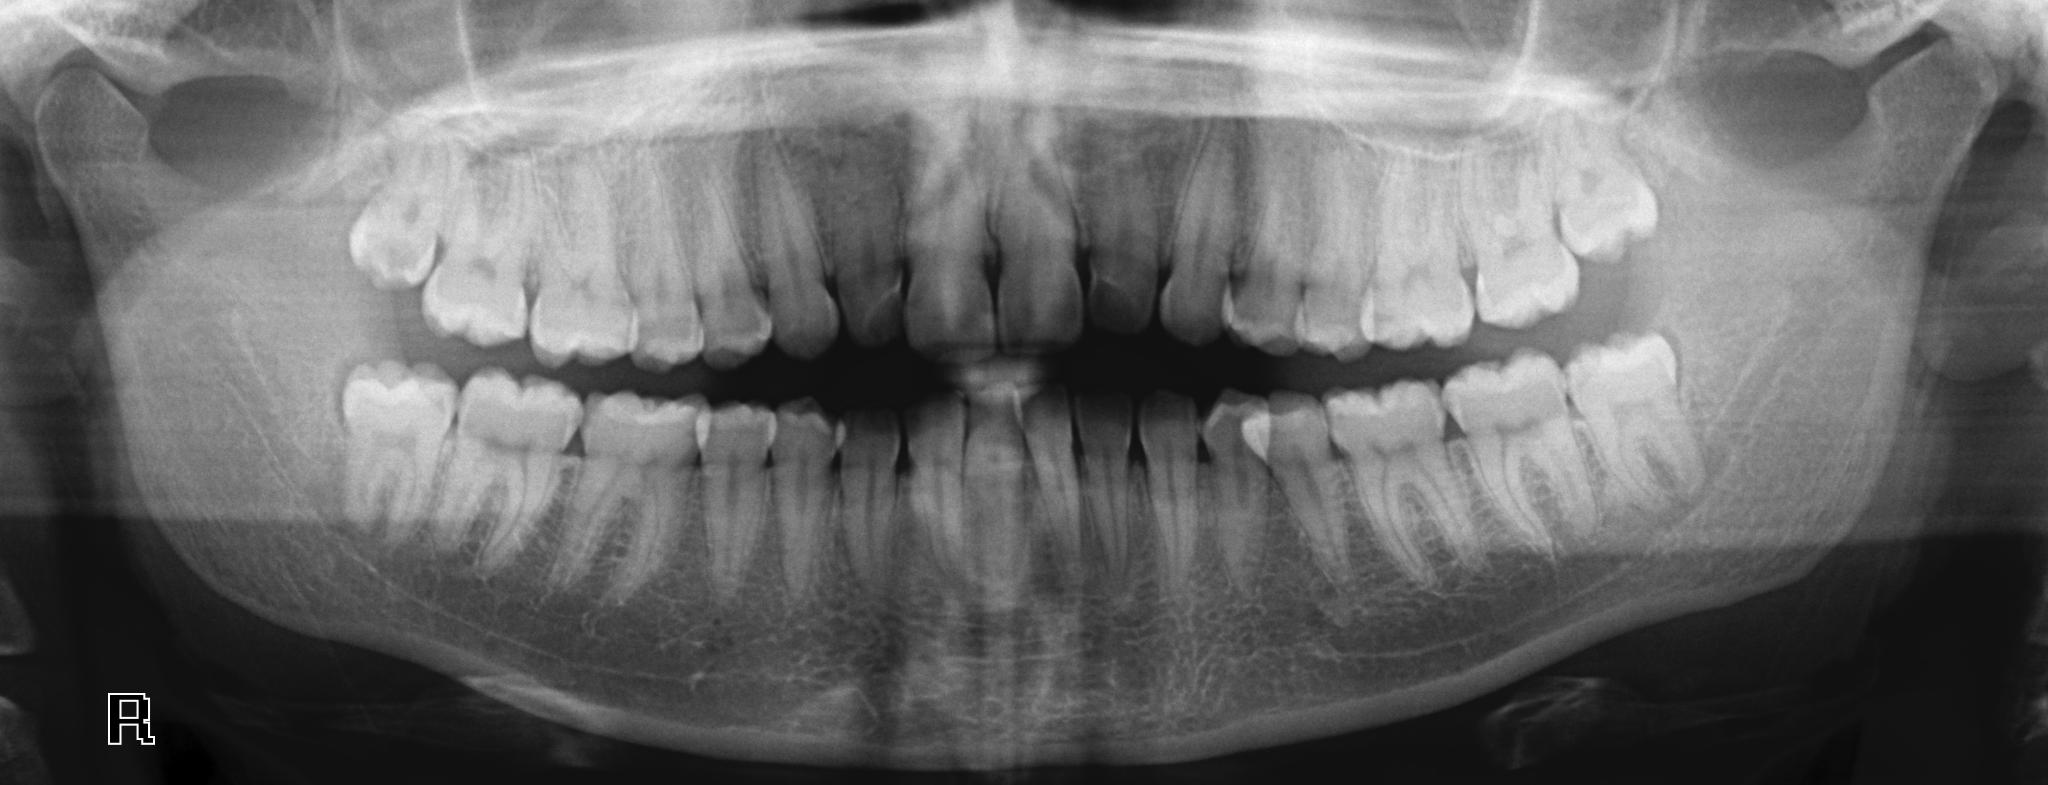Fillings: (111, 692, 153, 746)
